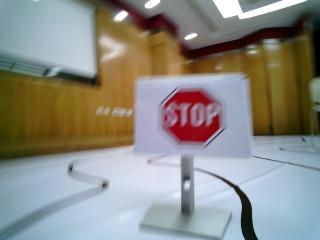stop: (141, 81, 242, 147)
